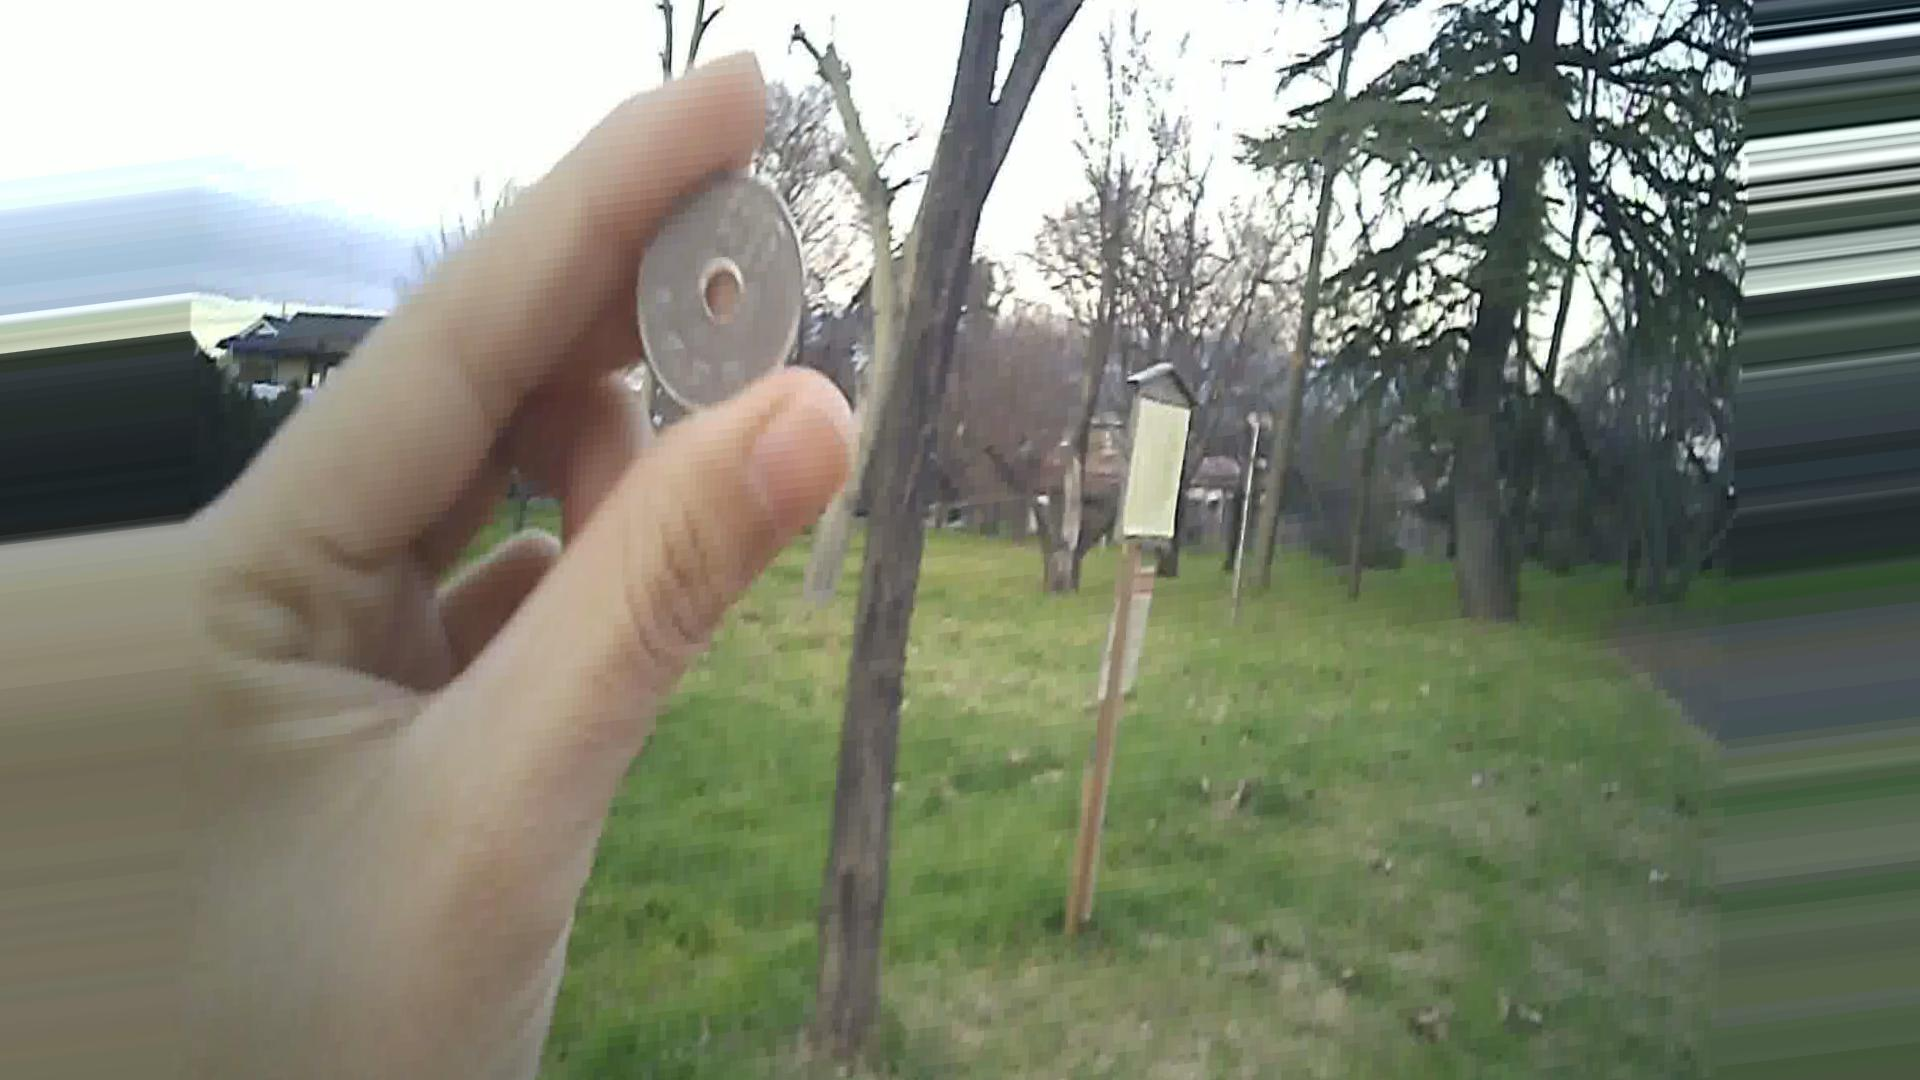50 Yen: (615, 169, 810, 440)
